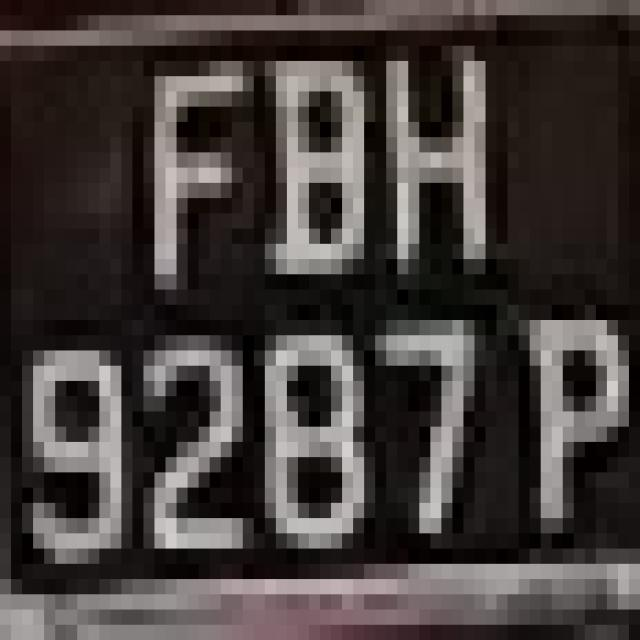2: (132, 320, 265, 579)
7: (364, 290, 497, 548)
8: (254, 305, 386, 564)
9: (11, 320, 143, 579)
B: (265, 31, 386, 336)
F: (132, 30, 254, 320)
H: (364, 31, 497, 290)
P: (518, 259, 640, 548)
